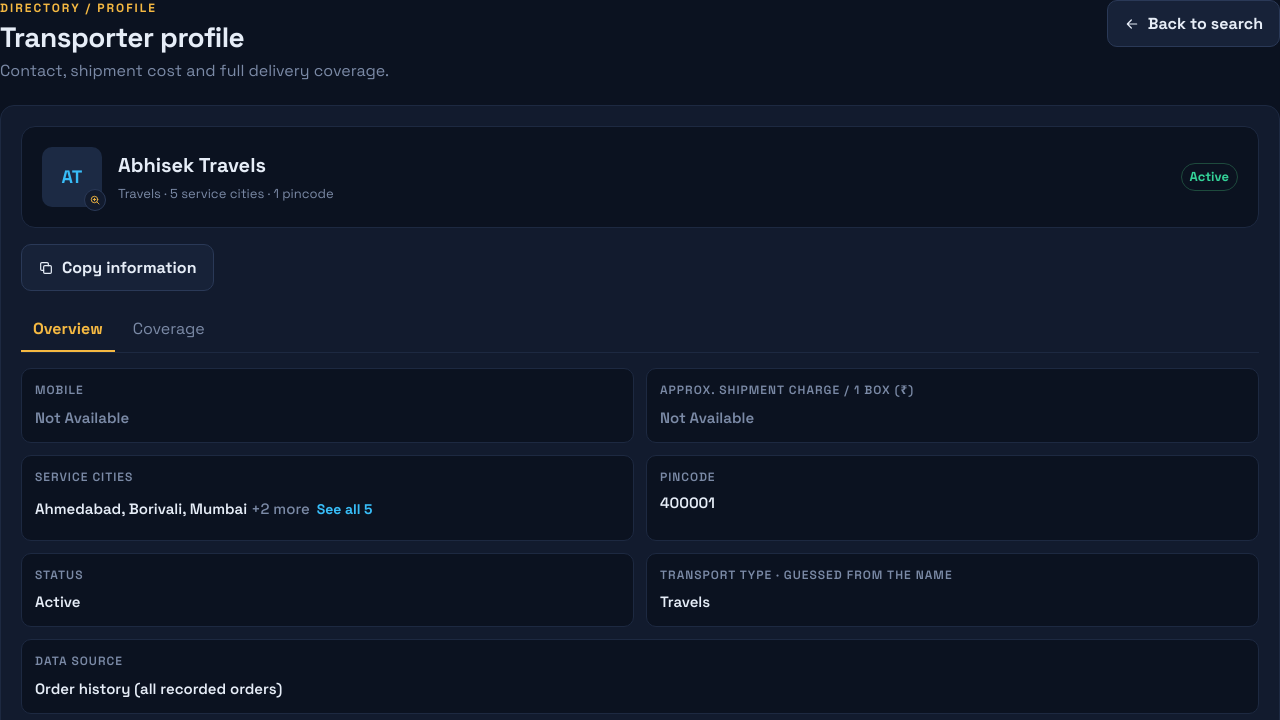
Service Cities › details drawer summarises service cities, and its Coverage tab lists every one
expect the button "See all 5" is shown: met, box [310, 492, 379, 527]
Click the tab "Coverage" at (169, 330), box [121, 307, 217, 352]
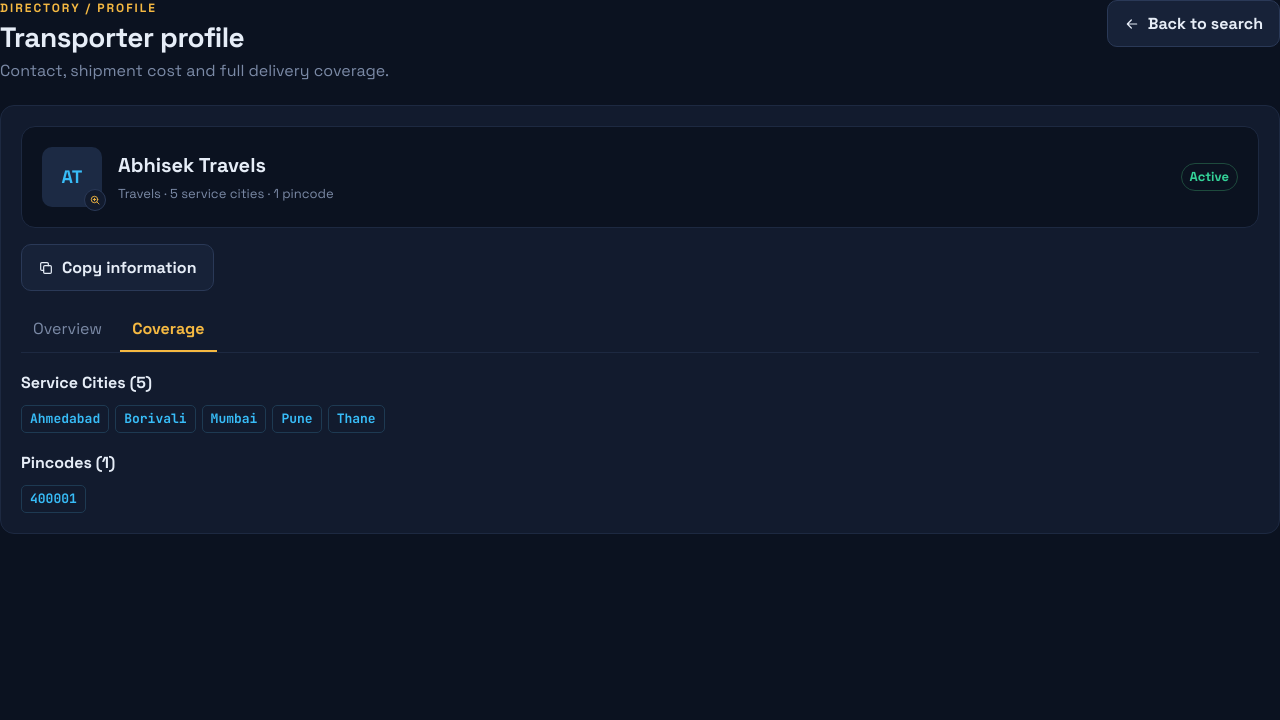
expect the heading "Service Cities (5)" is shown: met, box [21, 372, 152, 393]
expect the list items read "Ahmedabad", "Borivali", "Mumbai", "Pune", "Thane", in this order: met, box [21, 404, 109, 433]; [115, 404, 196, 433]; [202, 404, 266, 433]; [272, 404, 322, 433]; [328, 404, 385, 433]
